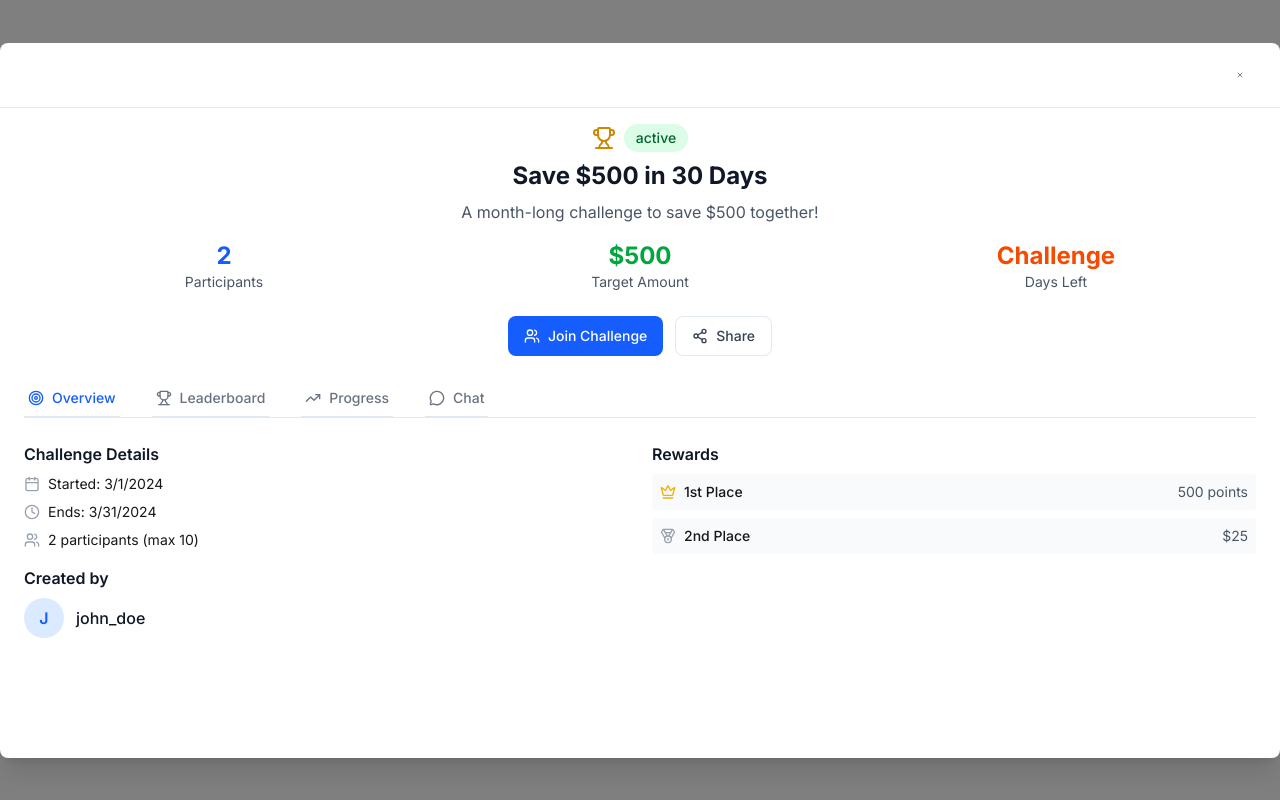
ChallengeDetails › shows different tabs
Expected: the button "Overview" is shown, [24, 380, 120, 418]
Expected: the button "Progress" is shown, [301, 380, 393, 418]
Click on Leaderboard tab
Click the button "Leaderboard": point(210, 398) [152, 380, 269, 418]
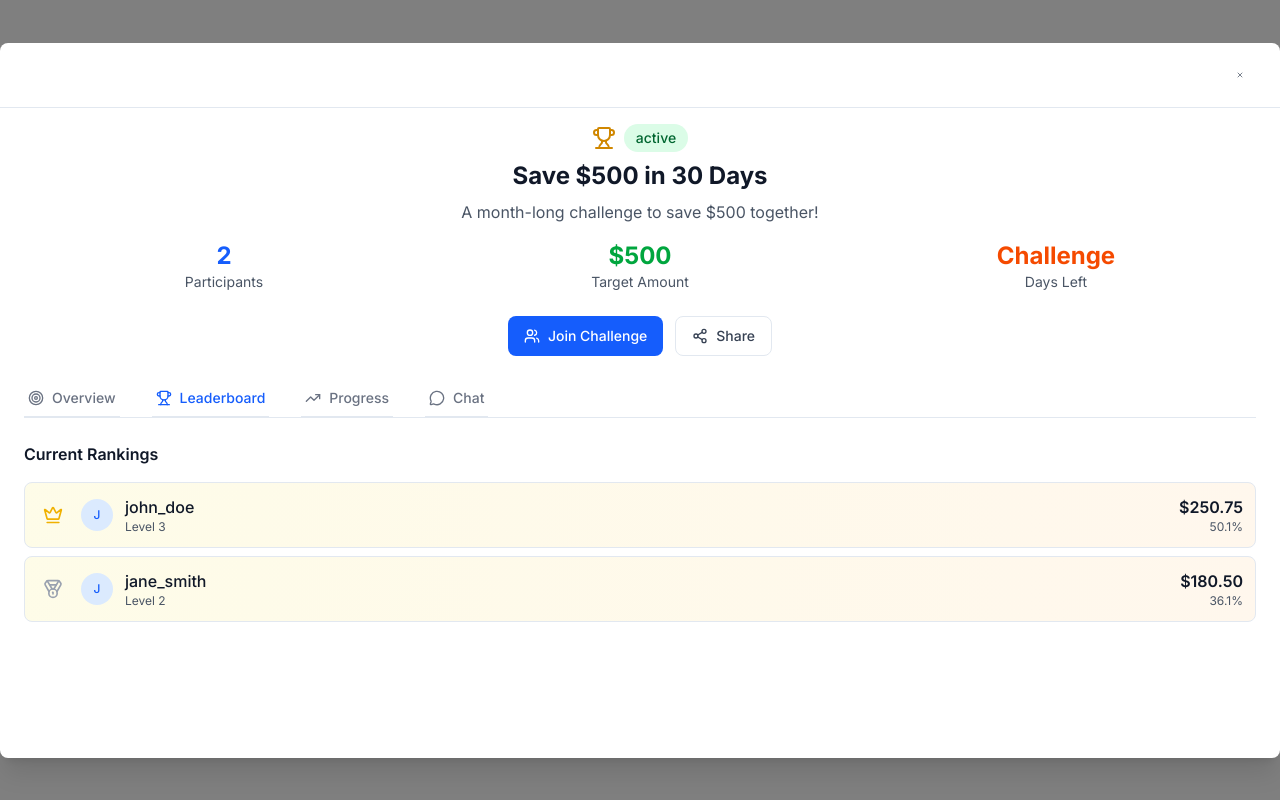
Expected: the text "john_doe" is shown, [125, 494, 194, 518]
Now the heading "Current Rankings" is shown, box [24, 444, 158, 464]
Now the text "jane_smith" is shown, box [125, 568, 206, 592]
